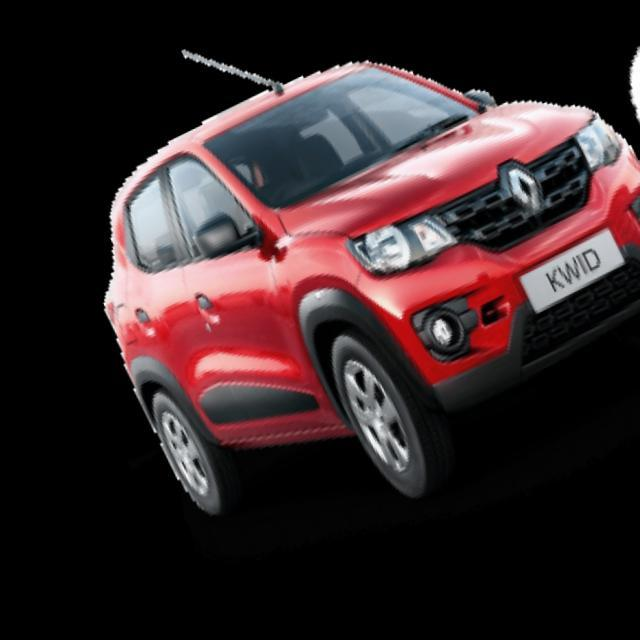license_plate: (486, 234, 626, 348)
